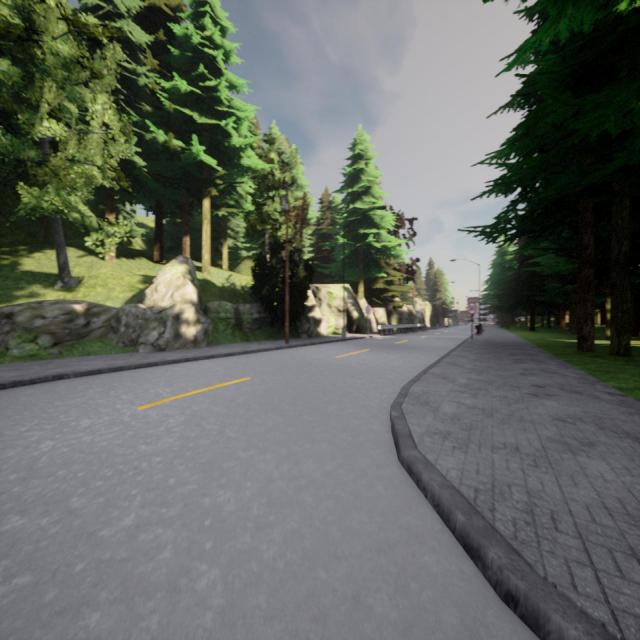Traffic_Signs: (467, 302, 477, 314), (366, 306, 370, 315)
